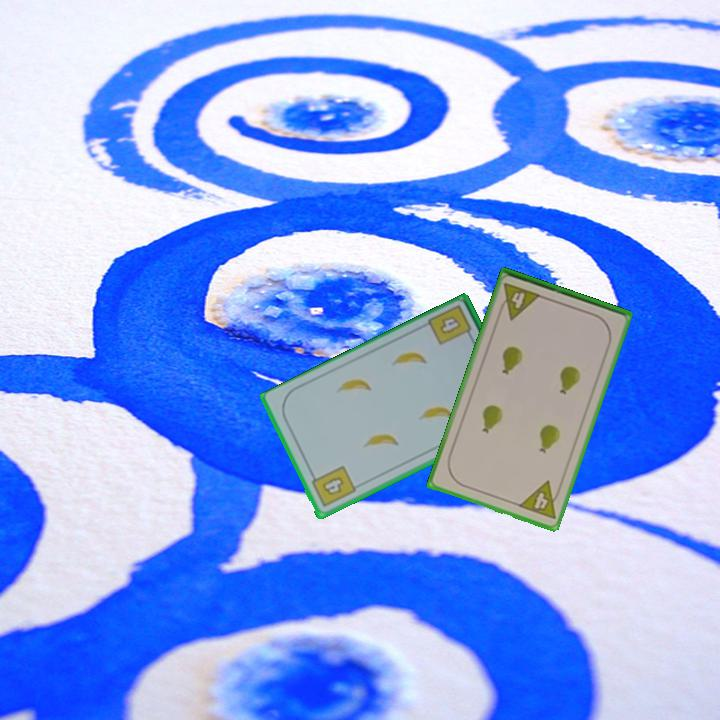4b: (307, 463, 358, 511), (425, 301, 477, 348)
4p: (515, 477, 565, 522), (495, 279, 544, 323)
